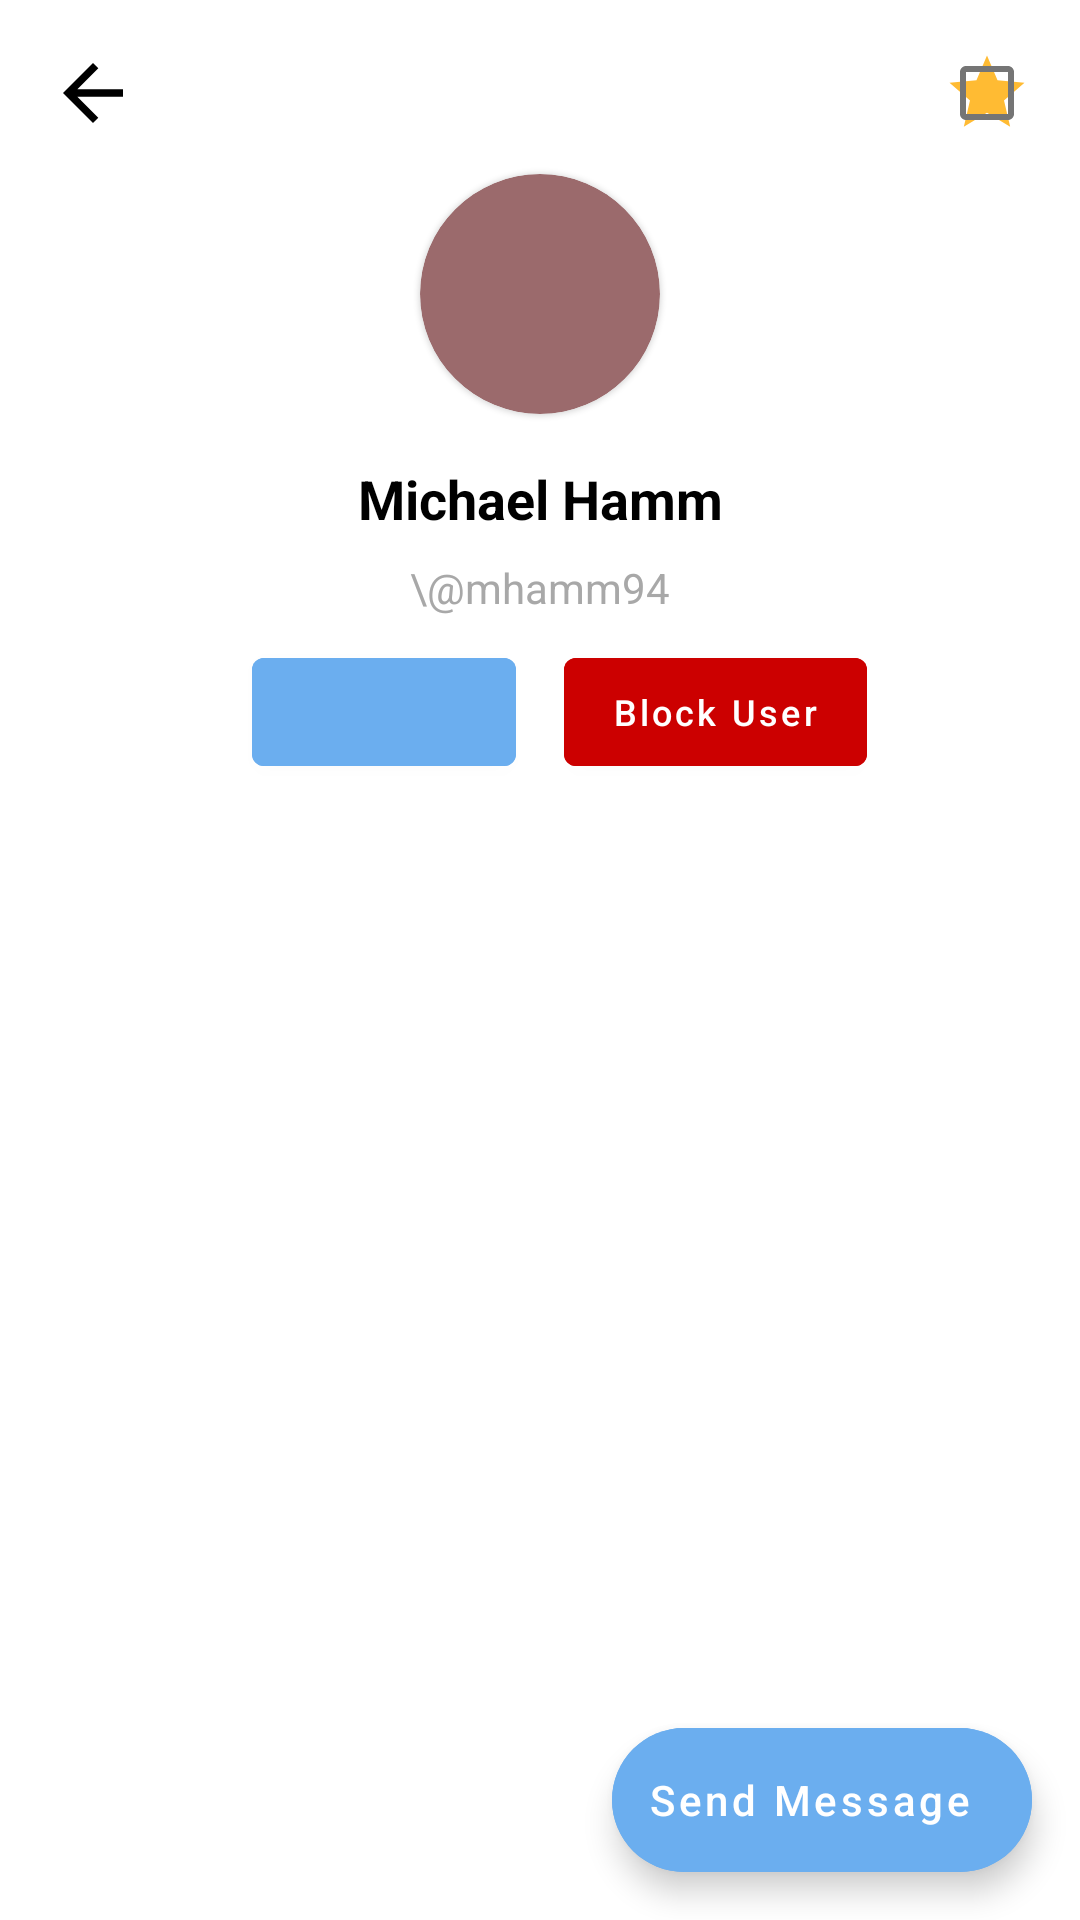

Point at icon controls on the screen. Image size 1080px x 1920px, points as (x=x, y=y).
back: (x=93, y=93)
